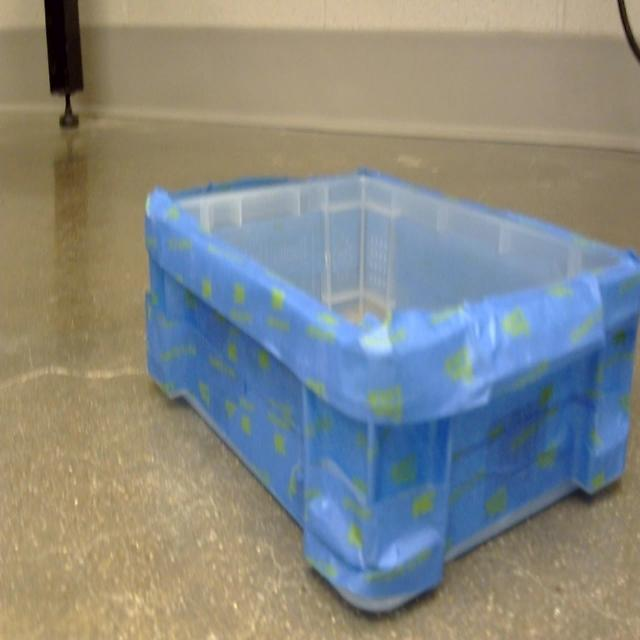bucket: (144, 171, 640, 618)
